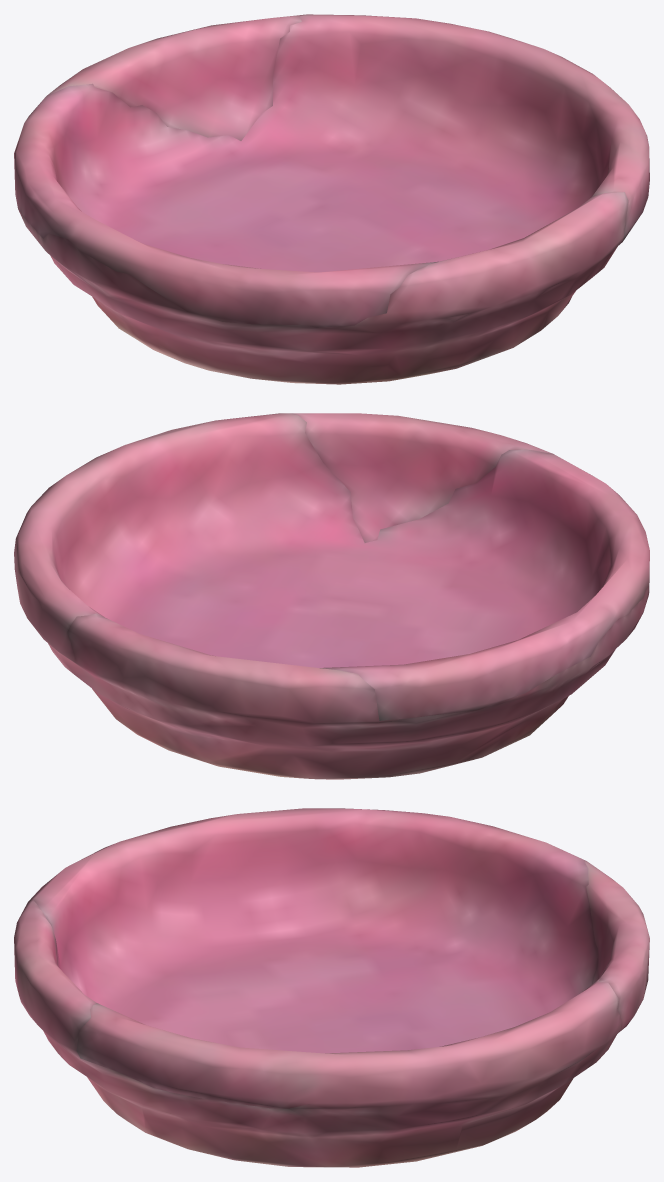
Rendered from Cole_Hardware_Saucer_Electric-medium.glb.
The picture shows the model from 3 angles, top to bottom: view 1: azimuth 30°, elevation 25°; view 2: azimuth 150°, elevation 25°; view 3: azimuth 270°, elevation 25°; orthographic projection.
Parts seen in each view (by area): view 1: Cole_Hardware_Saucer_Electric; view 2: Cole_Hardware_Saucer_Electric; view 3: Cole_Hardware_Saucer_Electric.
Boxes of the visible parts, bbox=[...] form: Cole_Hardware_Saucer_Electric: bbox=[14, 14, 649, 384]; Cole_Hardware_Saucer_Electric: bbox=[14, 413, 649, 779]; Cole_Hardware_Saucer_Electric: bbox=[14, 808, 649, 1167].
Size of the model in its own units: 0.1241 by 0.0314 by 0.1239.
1 material, 1 textured.
